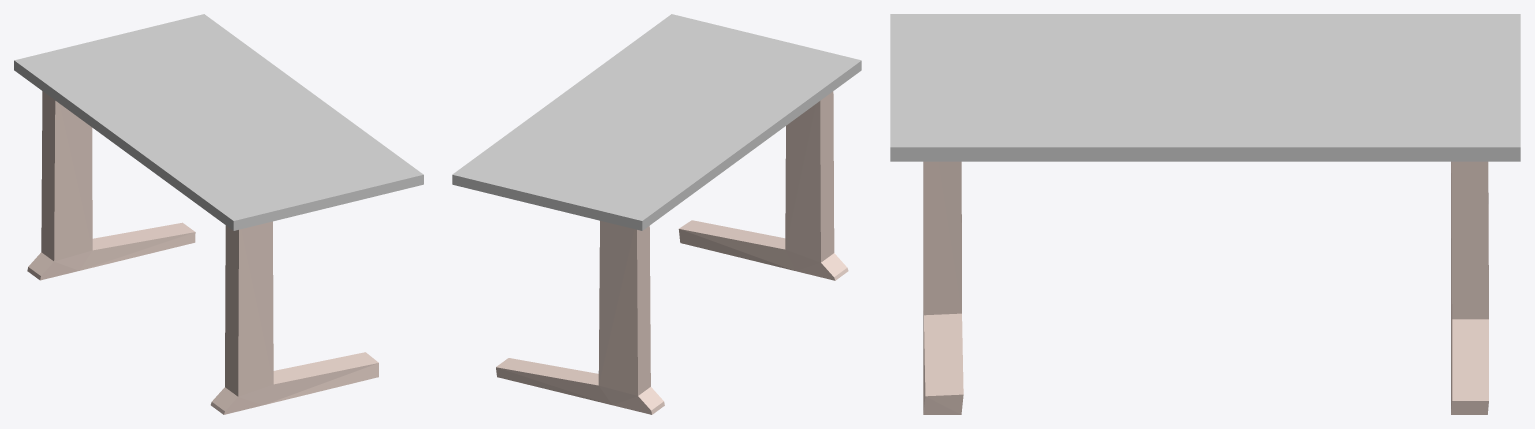
File: mesa2.dae
The picture shows the model from 3 angles, left to right: view 1: azimuth 30°, elevation 25°; view 2: azimuth 150°, elevation 25°; view 3: azimuth 270°, elevation 25°; orthographic projection. The views are drawn at different scales.
Visible parts, largest first — view 1: Superficie, Pernas; view 2: Superficie, Pernas; view 3: Superficie, Pernas.
Boxes of the visible parts, bbox=[...] form: Superficie: bbox=[14, 14, 423, 230]; Pernas: bbox=[27, 91, 378, 414]; Superficie: bbox=[452, 14, 861, 230]; Pernas: bbox=[496, 91, 848, 414]; Superficie: bbox=[890, 14, 1520, 161]; Pernas: bbox=[923, 161, 1488, 414].
Size of the model in its own units: 2 by 4 by 2.04.
